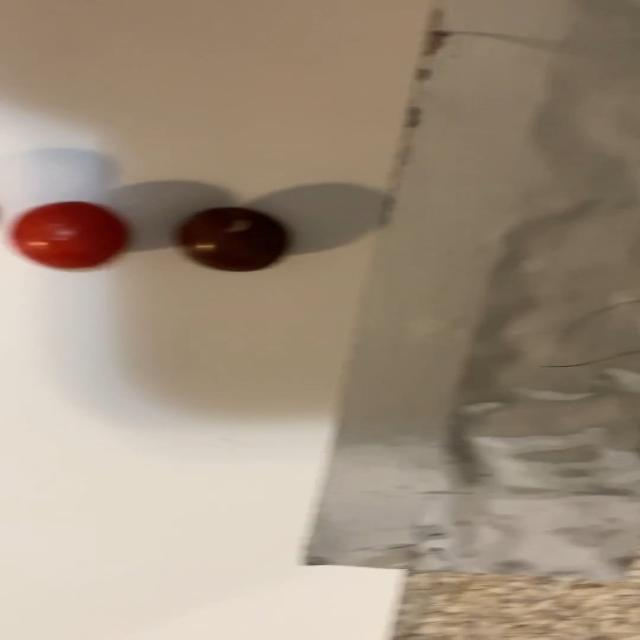smartie: (10, 201, 126, 268), (179, 207, 287, 271)
